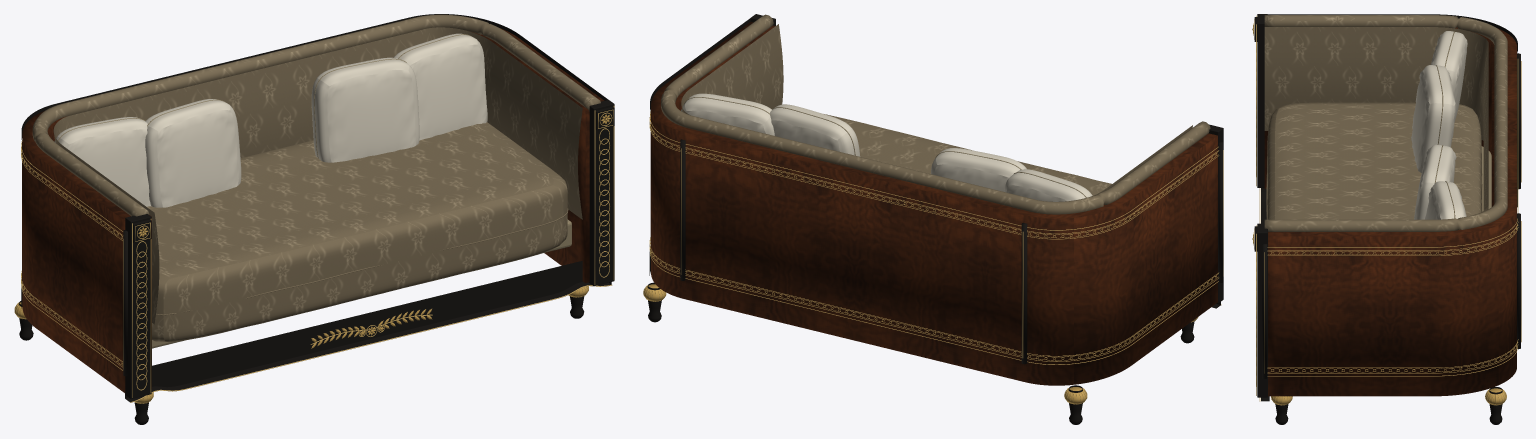
3 views of the same model, side by side, from view 1: azimuth 30°, elevation 25°; view 2: azimuth 150°, elevation 25°; view 3: azimuth 270°, elevation 25° (orthographic). The views are drawn at different scales.
Visible parts, largest first — view 1: Nantes two-seat sofa | 50376.0 | living-7 web batch; view 2: Nantes two-seat sofa | 50376.0 | living-7 web batch; view 3: Nantes two-seat sofa | 50376.0 | living-7 web batch.
Boxes of the visible parts, <box> form: Nantes two-seat sofa | 50376.0 | living-7 web batch: <box>14,14,614,424</box>; Nantes two-seat sofa | 50376.0 | living-7 web batch: <box>643,14,1223,424</box>; Nantes two-seat sofa | 50376.0 | living-7 web batch: <box>1252,14,1521,424</box>.
Size of the model in its own units: 1.8 by 0.78 by 0.92.
Materials: 7 (3 with a texture image).
